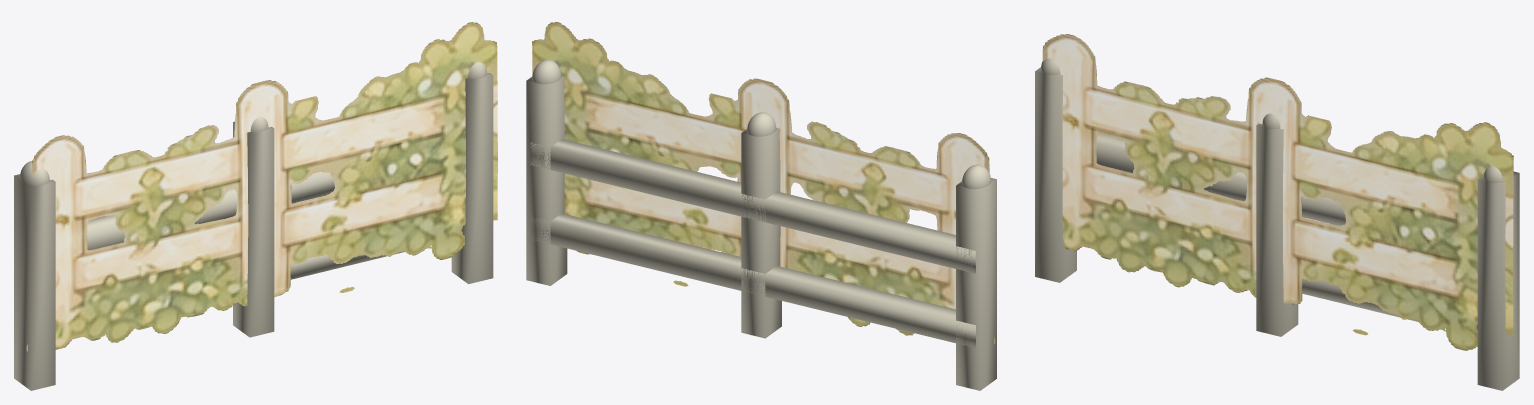
File: garden_fence.glb
3 renders of one model, left to right at view 1: azimuth 30°, elevation 25°; view 2: azimuth 150°, elevation 25°; view 3: azimuth 330°, elevation 25°, orthographic. The views are drawn at different scales.
Visible parts, largest first — view 1: fence / painted relief, Fence / post 0, Fence / post 2, Fence / post 1, Fence / rail (×2), Fence / round cap 0; view 2: fence / painted relief, Fence / rail (×2), Fence / post 0, Fence / post 2, Fence / post 1, Fence / round cap 2, Fence / round cap 1, Fence / round cap 0; view 3: fence / painted relief, Fence / post 2, Fence / post 0, Fence / post 1, Fence / rail (×2).
Part boxes in pixels (<box>): fence / painted relief: <box>26,22,497,351</box>; Fence / post 0: <box>14,174,55,390</box>; Fence / post 2: <box>451,73,493,284</box>; Fence / post 1: <box>233,121,274,337</box>; Fence / rail (×2): <box>87,172,462,279</box>; Fence / round cap 0: <box>20,161,49,185</box>; fence / painted relief: <box>532,22,995,344</box>; Fence / rail (×2): <box>530,139,975,347</box>; Fence / post 0: <box>956,178,996,390</box>; Fence / post 2: <box>526,76,567,285</box>; Fence / post 1: <box>741,128,781,338</box>; Fence / round cap 2: <box>532,60,561,84</box>; Fence / round cap 1: <box>747,112,776,136</box>; Fence / round cap 0: <box>962,164,991,189</box>; fence / painted relief: <box>1042,34,1513,350</box>; Fence / post 2: <box>1477,171,1519,390</box>; Fence / post 0: <box>1035,67,1076,282</box>; Fence / post 1: <box>1256,123,1298,336</box>; Fence / rail (×2): <box>1096,134,1477,330</box>.
Bounding box in the file's own units: 6 × 3.12 × 0.37.
2 materials, 1 textured.
